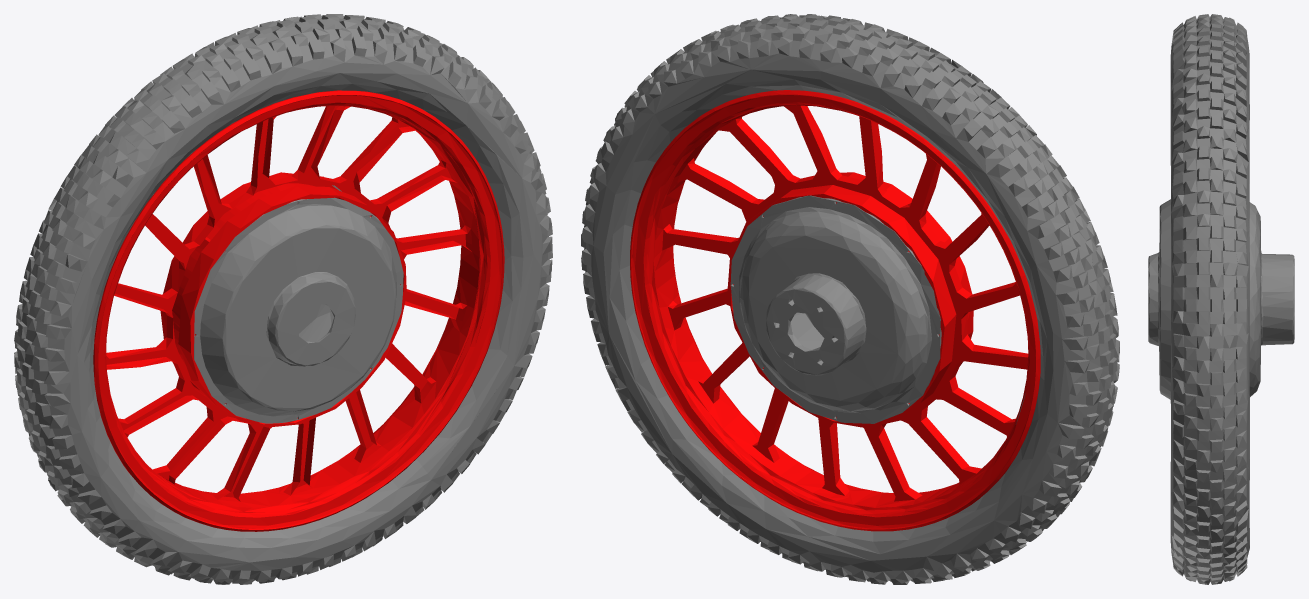
The model's file is wheel_rear_left.dae.
3 renders of one model, left to right at view 1: azimuth 30°, elevation 25°; view 2: azimuth 150°, elevation 25°; view 3: azimuth 270°, elevation 25°, orthographic. The views are drawn at different scales.
Visible parts, largest first — view 1: wheel_rear_left; view 2: wheel_rear_left; view 3: wheel_rear_left.
Boxes of the visible parts, bbox=[...] form: wheel_rear_left: bbox=[14, 14, 552, 584]; wheel_rear_left: bbox=[581, 14, 1119, 584]; wheel_rear_left: bbox=[1148, 14, 1294, 584].
Size of the model in its own units: 0.5071 by 0.13 by 0.5073.
